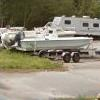Boat: (13, 29, 95, 60)
